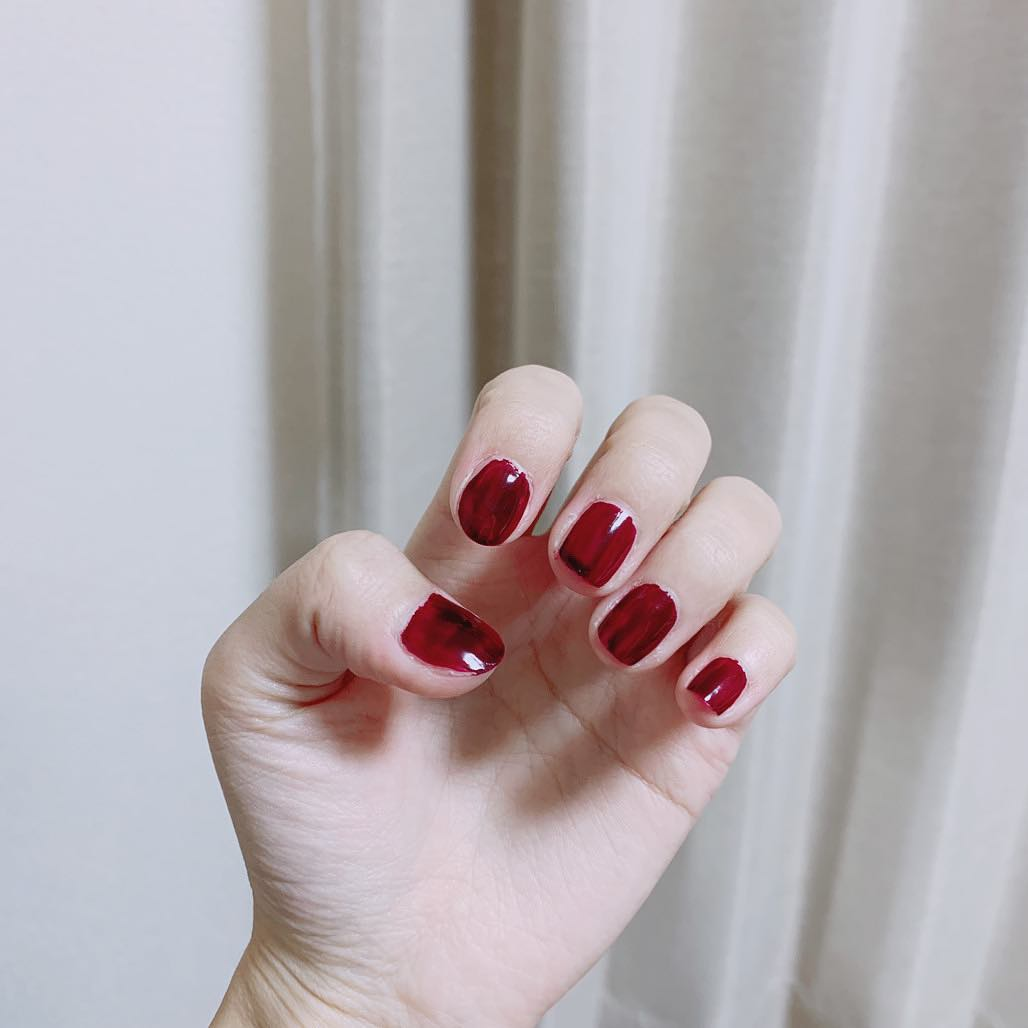hand: (253, 422, 782, 1012)
